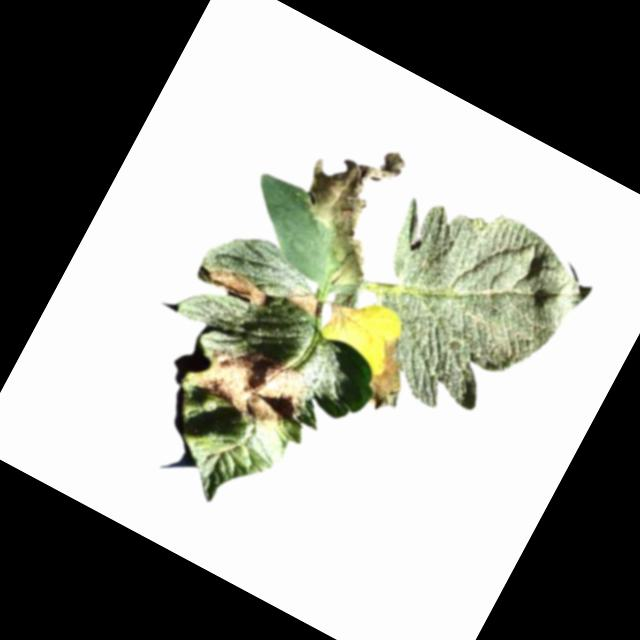Late_blight: (271, 121, 423, 295), (183, 324, 322, 445), (354, 332, 424, 415), (204, 259, 274, 315), (321, 295, 363, 338), (282, 284, 326, 320)
healthy: (327, 170, 604, 448)
